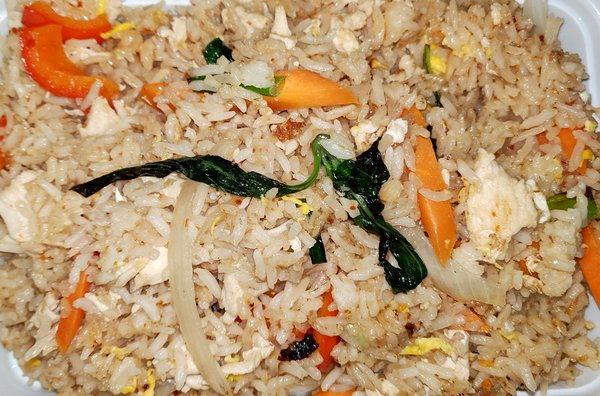sandwich: (1, 0, 596, 391)
